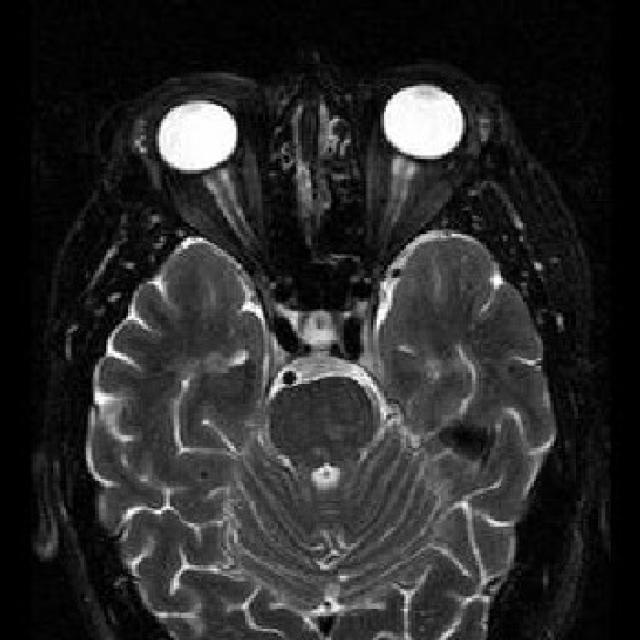notumor: (48, 64, 587, 636)
